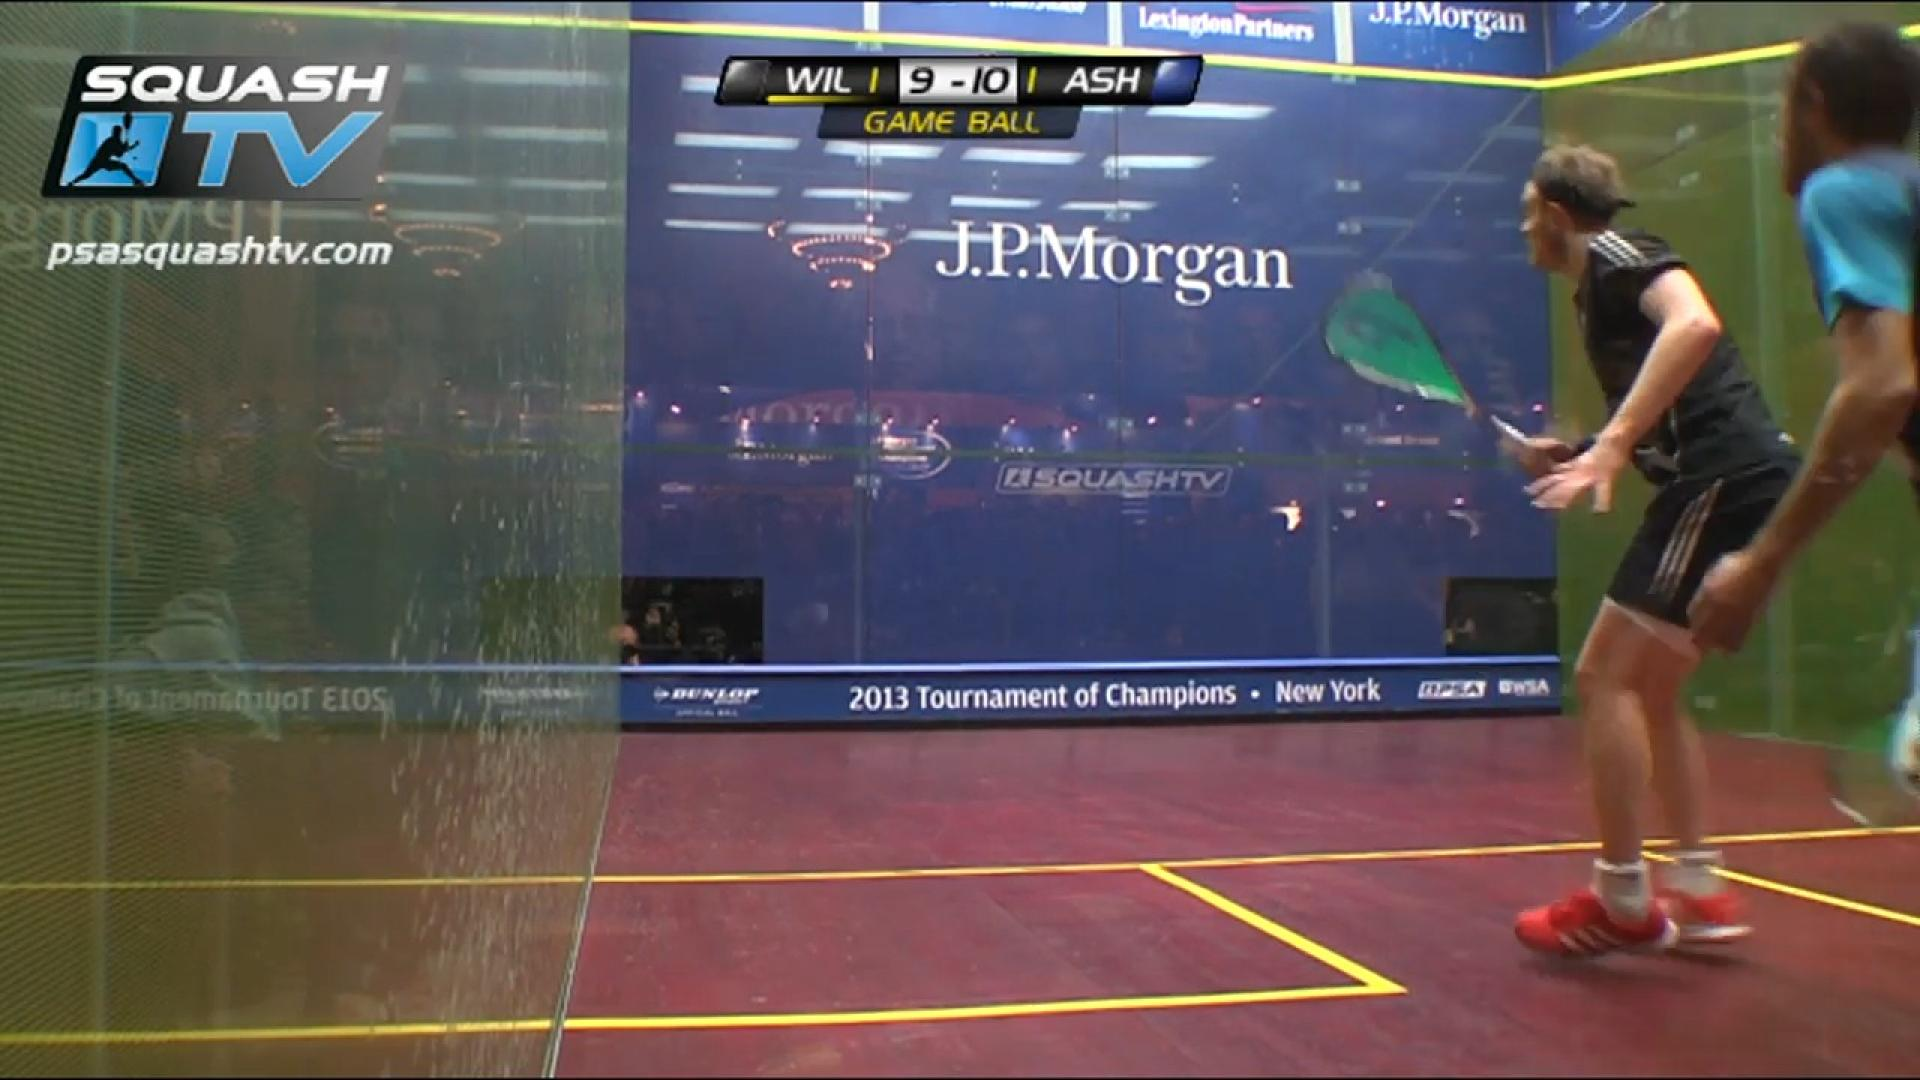Squash-Ball: (708, 377, 742, 407)
